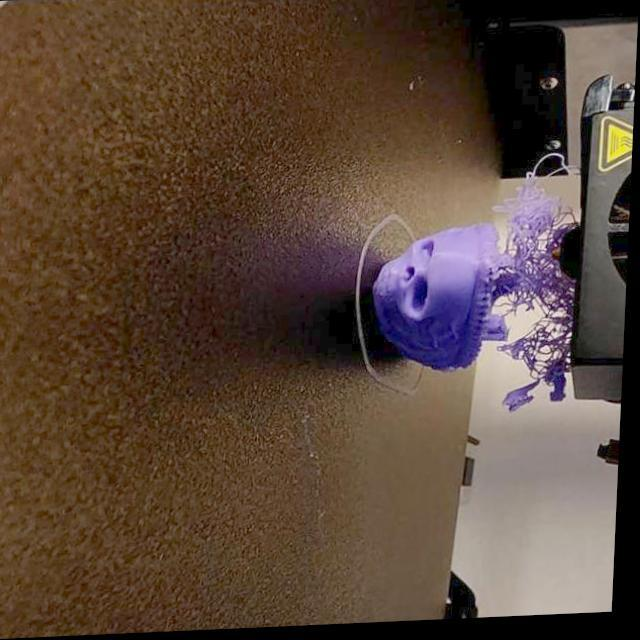spaghetti: (508, 317, 572, 386), (500, 188, 559, 260), (512, 263, 572, 321)
